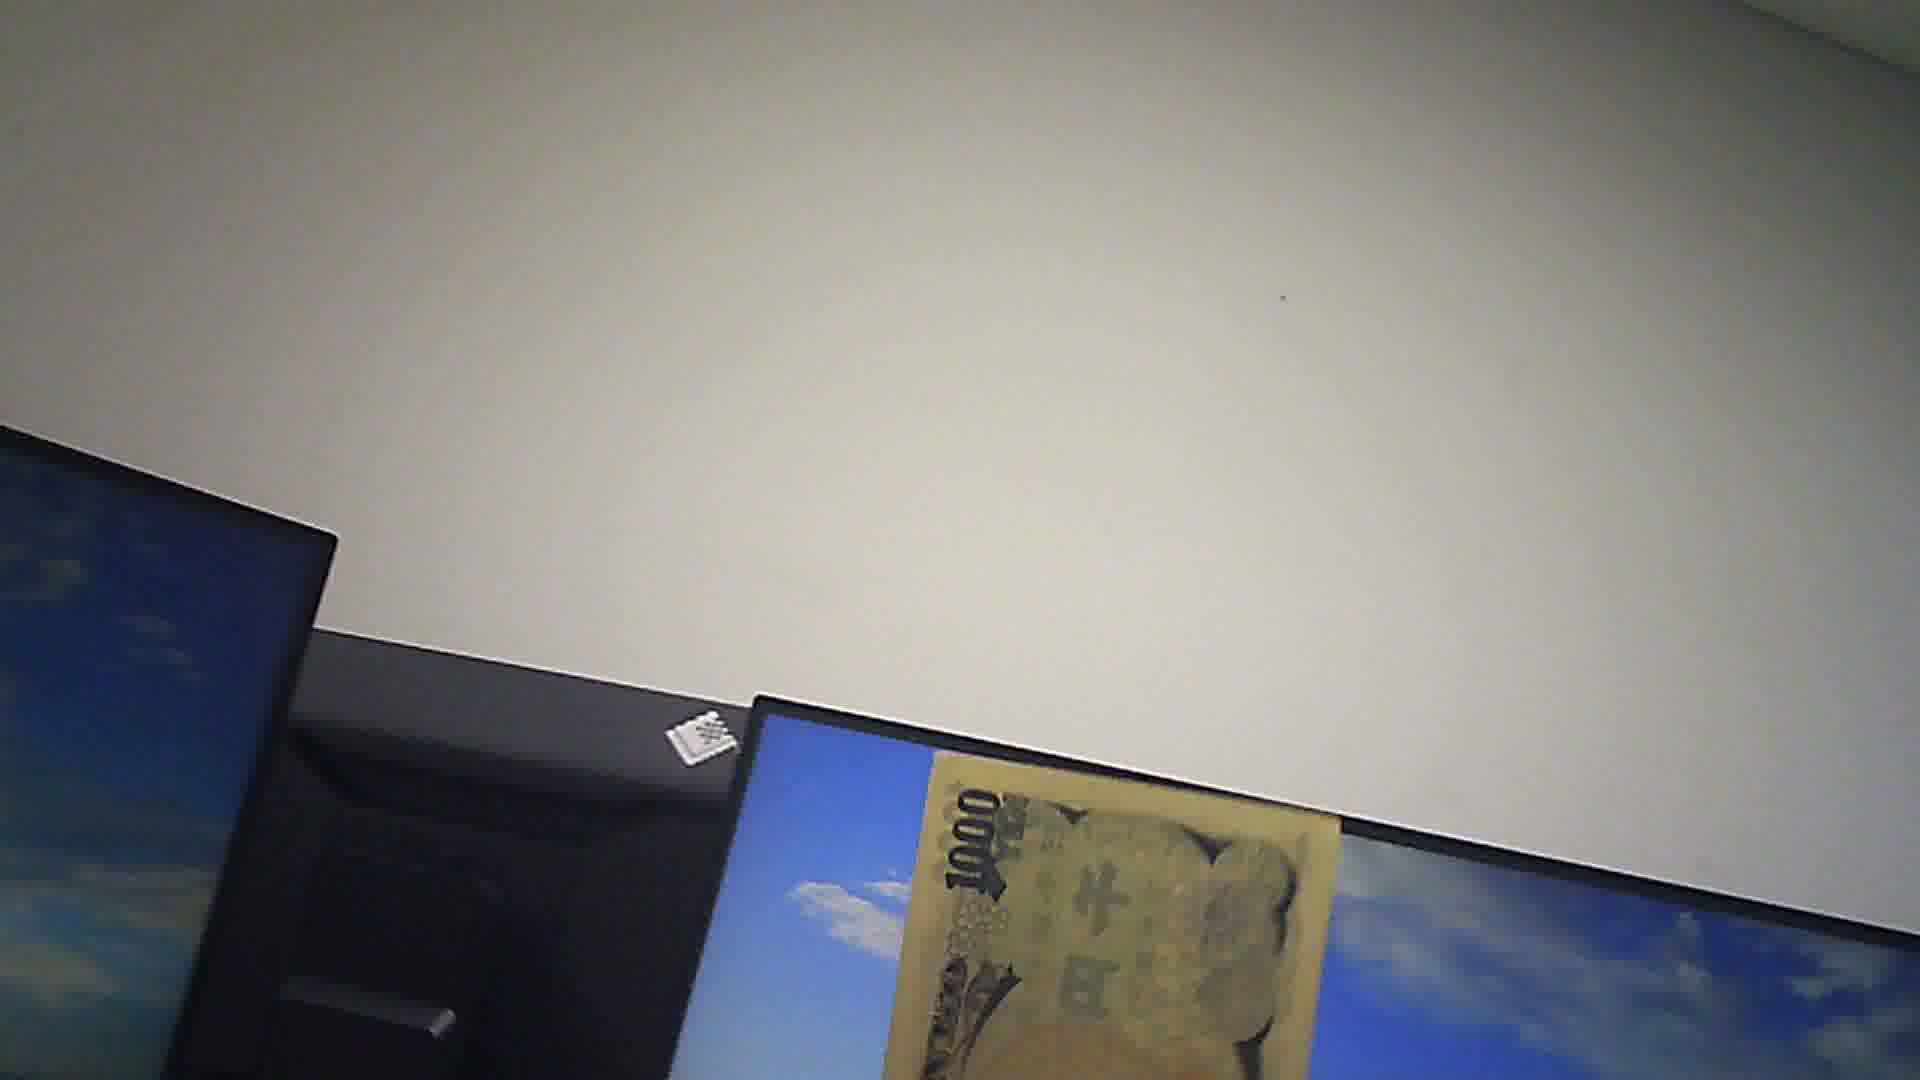1,000 Yen: (891, 746, 1341, 1079)
